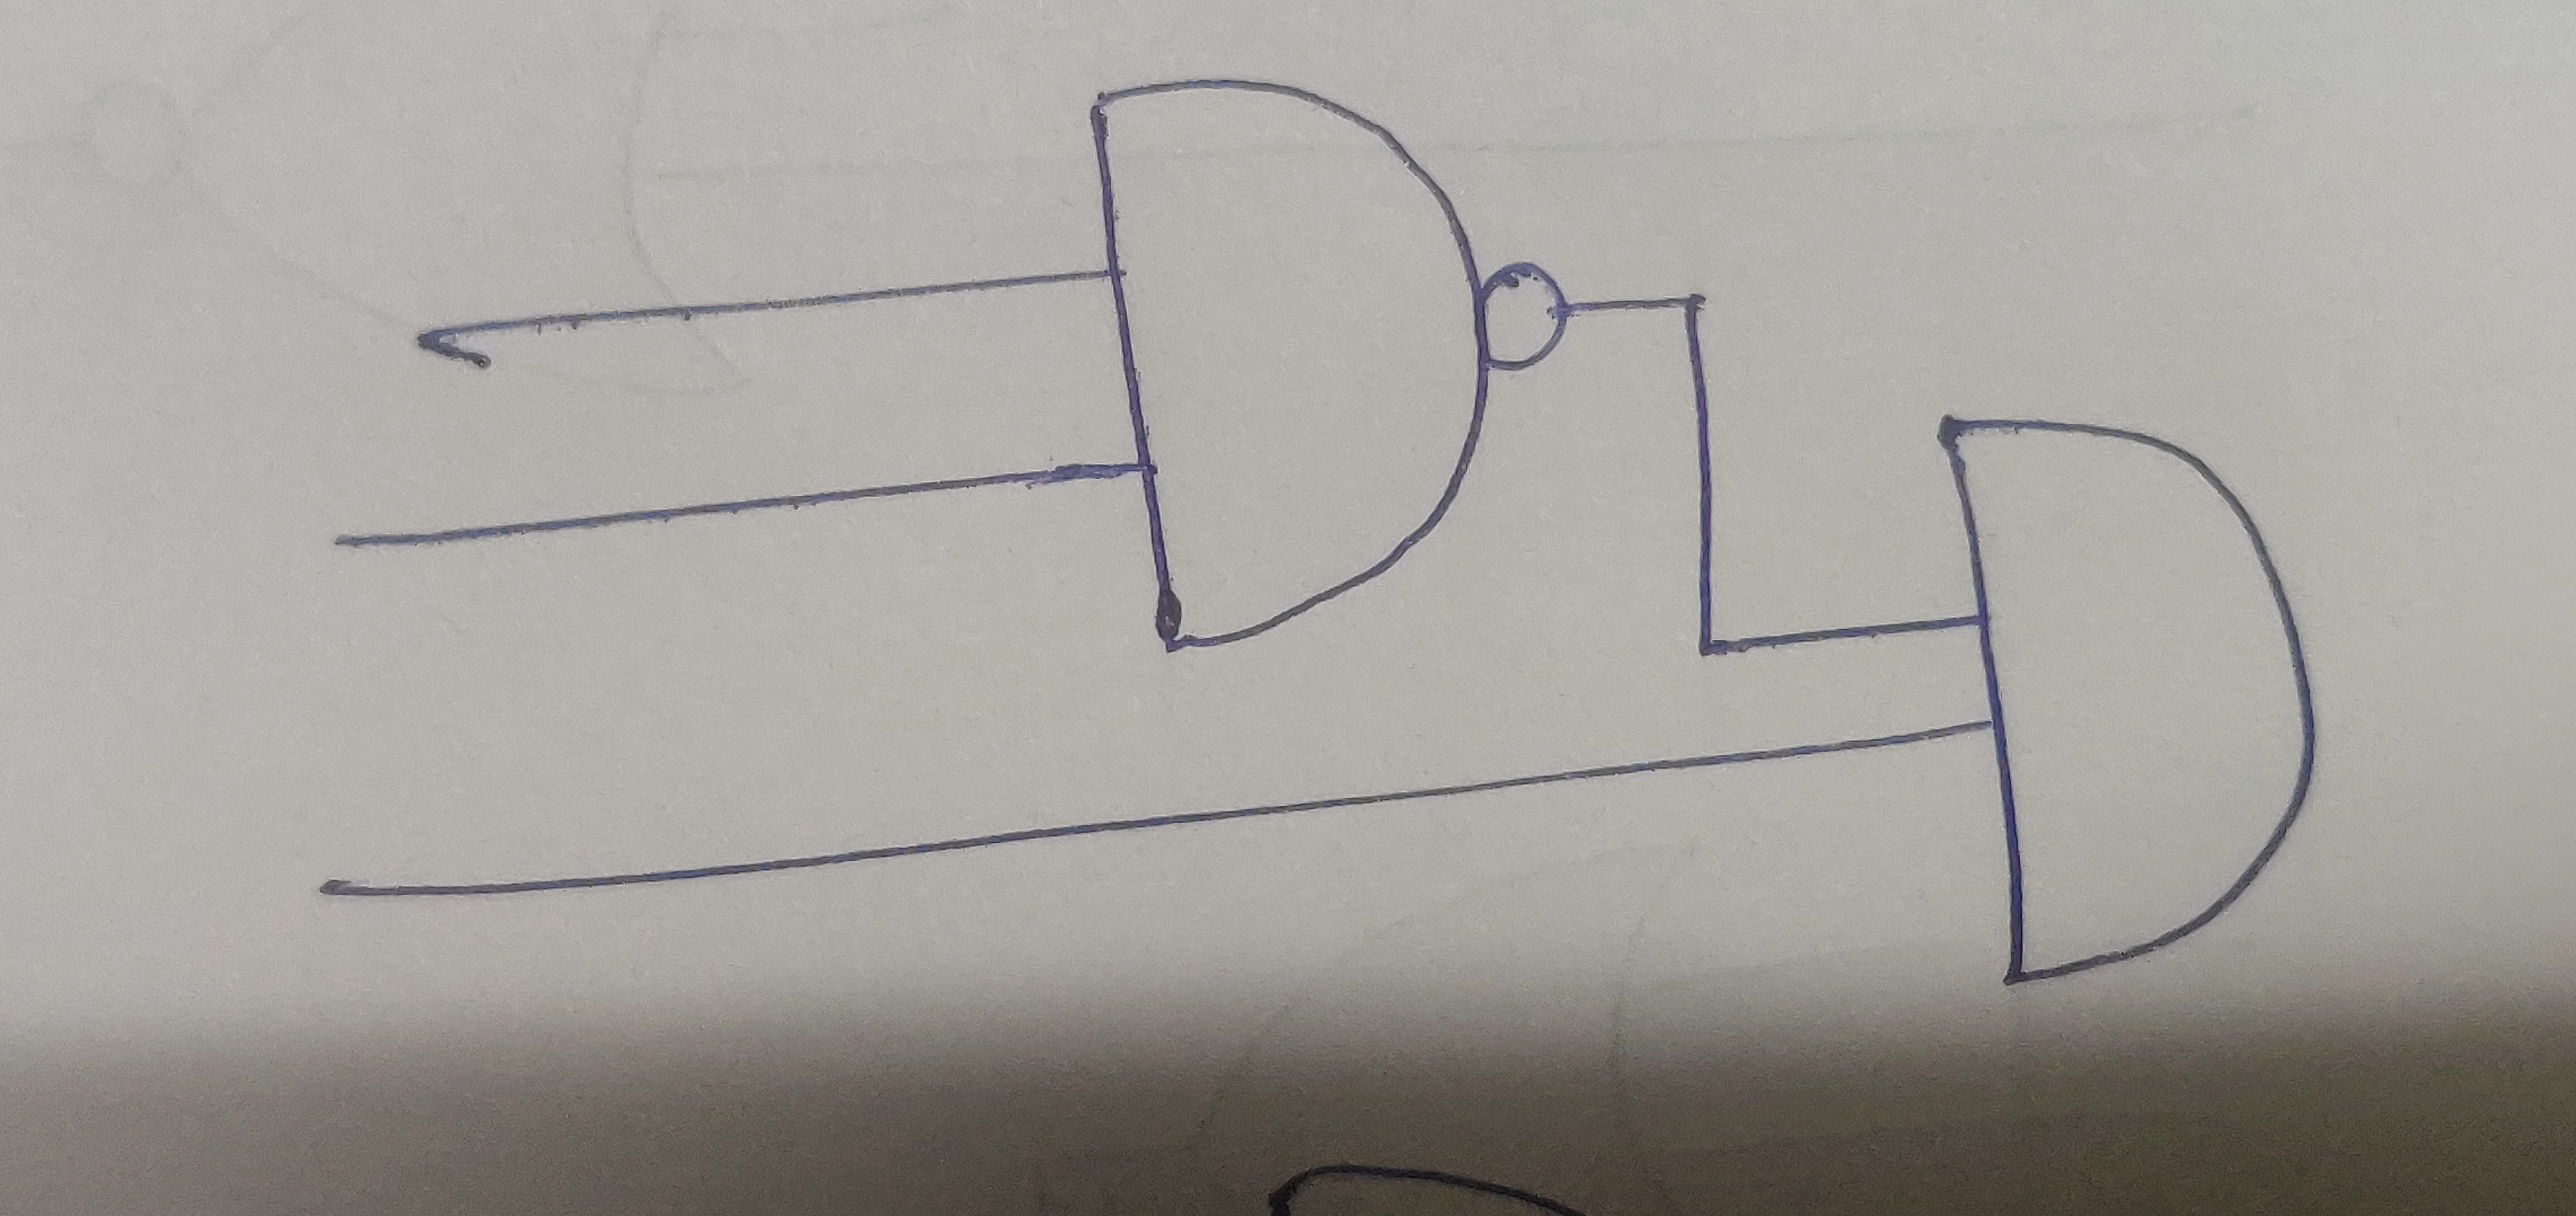and: (1084, 72, 1498, 651), (1932, 417, 2323, 993)
not: (1479, 253, 1574, 378)
